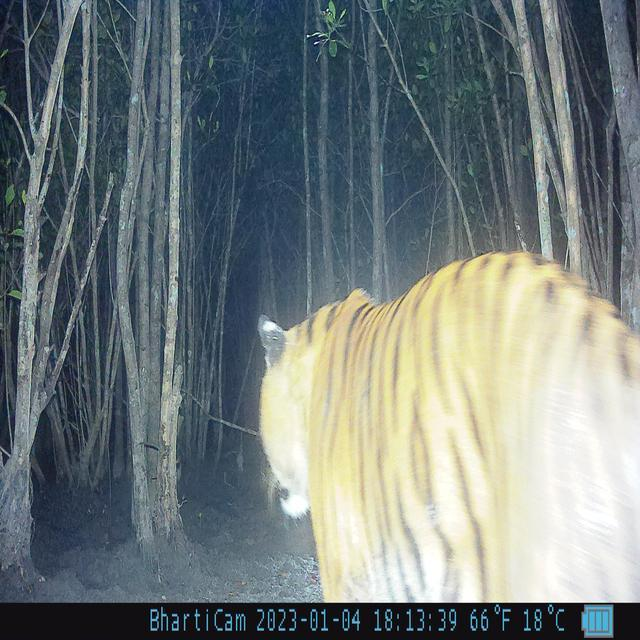tiger: (256, 248, 638, 603)
